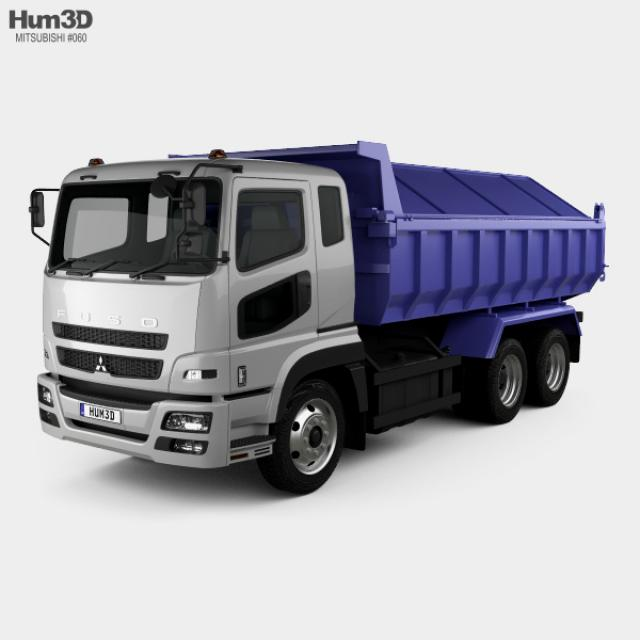truck: (32, 141, 604, 500)
